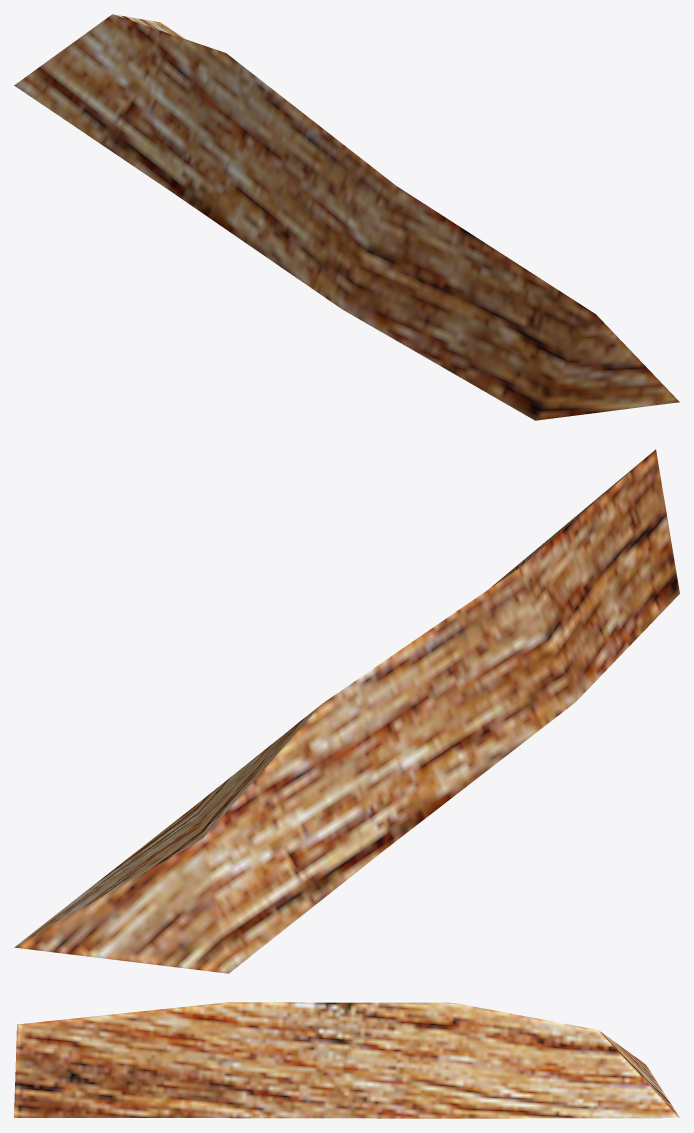
File: FirewoodPoleno_5_1.FBX
3 renders of one model, top to bottom at view 1: azimuth 30°, elevation 25°; view 2: azimuth 150°, elevation 25°; view 3: azimuth 270°, elevation 25°, orthographic. The views are drawn at different scales.
Visible parts, largest first — view 1: FirewoodPoleno_5_1; view 2: FirewoodPoleno_5_1; view 3: FirewoodPoleno_5_1.
Boxes of the visible parts, x1,y1,x2,y2 form: FirewoodPoleno_5_1: [14, 14, 679, 420]; FirewoodPoleno_5_1: [14, 449, 679, 973]; FirewoodPoleno_5_1: [14, 1002, 679, 1118].
Size of the model in its own units: 9.87 by 6.78 by 49.18.
